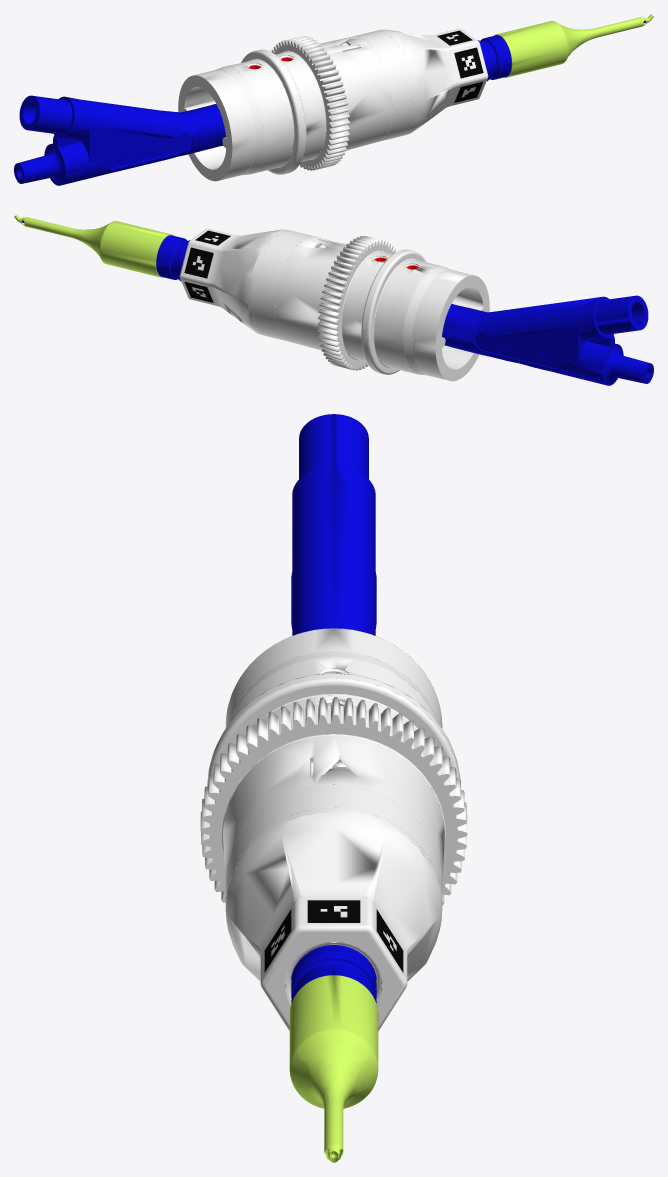
3 views of the same model, one above another, from view 1: azimuth 30°, elevation 25°; view 2: azimuth 150°, elevation 25°; view 3: azimuth 270°, elevation 25° (orthographic). The views are drawn at different scales.
Parts seen in each view (by area): view 1: IA; view 2: IA; view 3: IA.
Part boxes in pixels (x1,y1,x2,y2): IA: [14, 14, 653, 185]; IA: [14, 214, 653, 385]; IA: [200, 414, 467, 1162].
Size of the model in its own units: 138 by 25.2 by 27.84.
